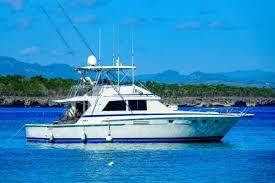fishing boat: (20, 54, 256, 153)
